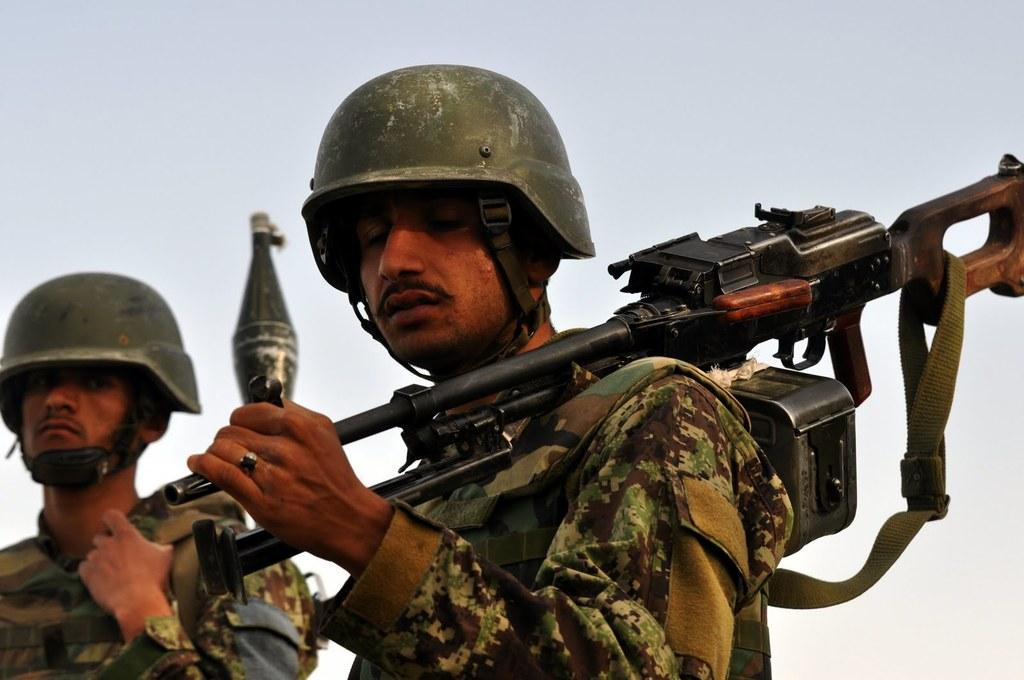Rifle: (164, 152, 1023, 594)
